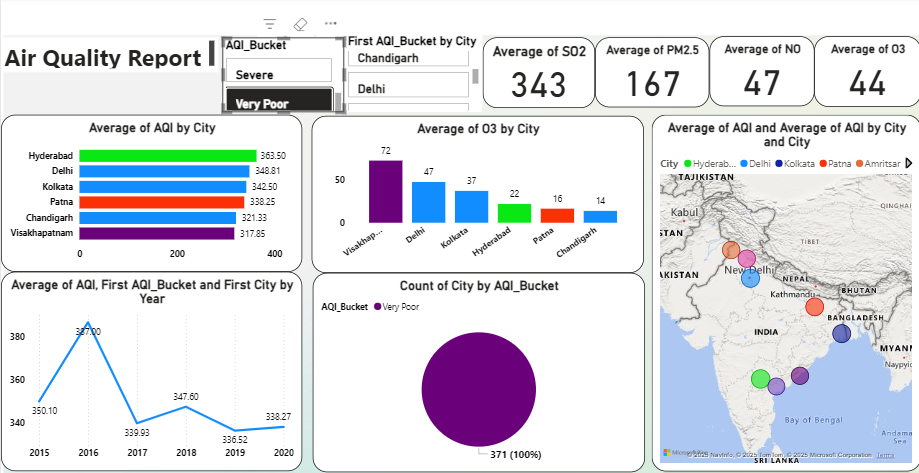

The page's visual inventory and layout, read from the dashboard file:
{"tool":"powerbi","page":{"name":"Page 1","canvas":[1280,720],"ordinal":0},"visuals":[{"type":"card","title":"Average of PM2.5","fields":{"Values":["Avg(city_day.PM2.5)"]},"box":[824.3,55.7,158.6,97.1],"z":0},{"type":"card","title":"Average of NO","fields":{"Values":["Avg(city_day.NO)"]},"box":[984.3,54.3,145.7,97.1],"z":1000},{"type":"card","title":"Average of SO2","fields":{"Values":["Avg(city_day.AQI)"]},"box":[668.6,55.7,155.7,98.6],"z":2000},{"type":"card","title":"Average of O3","fields":{"Values":["Avg(city_day.O3)"]},"box":[1130,54.3,148.6,98.6],"z":3000},{"type":"textbox","box":[0,55.7,301.4,48.6],"z":4000},{"type":"barChart","title":"Average of AQI  by City","fields":{"Category":["city_day.City"],"Y":["Avg(city_day.AQI)"]},"box":[0,162.9,418.6,218.6],"z":5000},{"type":"columnChart","fields":{"Category":["city_day.City"],"Y":["Avg(city_day.O3)"]},"box":[431.4,164.3,461.4,218.6],"z":6000},{"type":"lineChart","fields":{"Category":["city_day.Date.Variation.Date Hierarchy.Year"],"Y":["Avg(city_day.AQI)"]},"box":[0,381.4,418.6,277.1],"z":7000},{"type":"map","fields":{"Size":["Avg(city_day.AQI)"],"Category":["city_day.City"],"Series":["city_day.City"]},"box":[904.3,162.9,374.3,495.7],"z":8000},{"type":"pieChart","fields":{"Category":["city_day.AQI_Bucket"],"Y":["CountNonNull(city_day.City)"]},"box":[432.9,382.9,461.4,277.1],"z":9000},{"type":"advancedSlicerVisual","fields":{"Values":["city_day.City"]},"box":[477.1,51.4,191.4,108.6],"z":10000},{"type":"advancedSlicerVisual","fields":{"Values":["city_day.AQI_Bucket"]},"box":[307.1,55.7,170,104.3],"z":11000}]}

Visuals, with their boxes on the page's 1280x720 design canvas (x1, y1, x2, y2). These are canvas units, not pixel positions in the 919x473 screenshot, which may show the page scaled, cropped or inside an application window:
"Average of PM2.5" card: bbox=[824, 56, 983, 153]
"Average of NO" card: bbox=[984, 54, 1130, 151]
"Average of SO2" card: bbox=[669, 56, 824, 154]
"Average of O3" card: bbox=[1130, 54, 1279, 153]
textbox: bbox=[0, 56, 301, 104]
"Average of AQI  by City" barChart: bbox=[0, 163, 419, 382]
columnChart - city_day.City x Avg(city_day.O3): bbox=[431, 164, 893, 383]
lineChart - city_day.Date.Variation.Date Hierarchy.Year x Avg(city_day.AQI): bbox=[0, 381, 419, 658]
map - Avg(city_day.AQI) x city_day.City: bbox=[904, 163, 1279, 659]
pieChart - city_day.AQI_Bucket x CountNonNull(city_day.City): bbox=[433, 383, 894, 660]
advancedSlicerVisual - city_day.City: bbox=[477, 51, 668, 160]
advancedSlicerVisual - city_day.AQI_Bucket: bbox=[307, 56, 477, 160]
